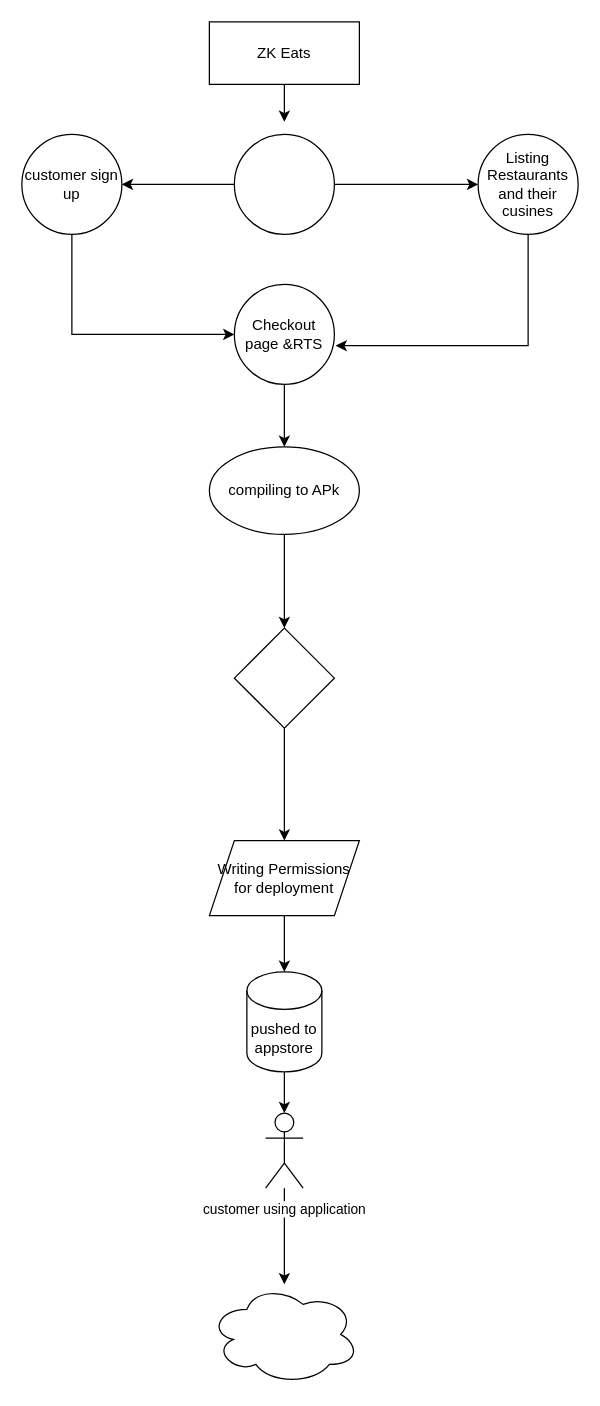
This 600x1406 diagram has some shape labels left out. The centre of each missing label's shape, as x and y in pixels:
"Designing UI/UX" goes at point 283,183.
"No Bugs Found" goes at point 283,677.
"Received No Feedback" goes at point 283,1333.
